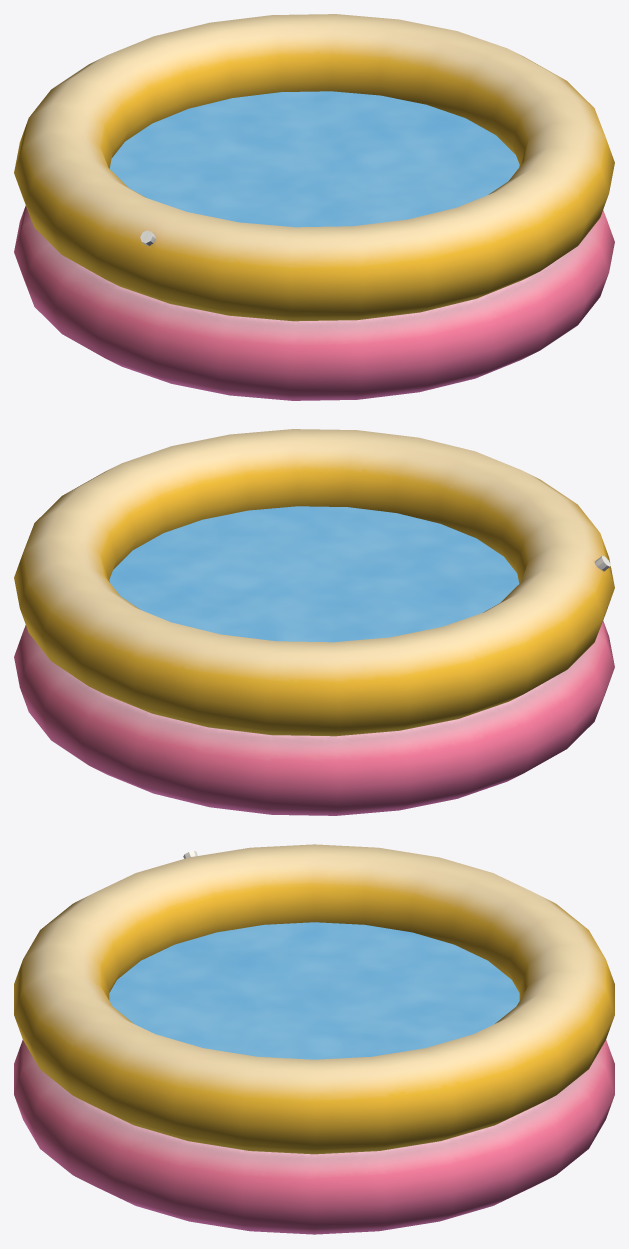
The model's file is KiddiePool.glb.
3 renders of one model, top to bottom at view 1: azimuth 30°, elevation 25°; view 2: azimuth 150°, elevation 25°; view 3: azimuth 270°, elevation 25°, orthographic.
Visible parts, largest first — view 1: KiddiePool, KiddiePool_Water; view 2: KiddiePool, KiddiePool_Water; view 3: KiddiePool, KiddiePool_Water.
Boxes of the visible parts, x1,y1,x2,y2 form: KiddiePool: (14,14,614,400); KiddiePool_Water: (109,91,519,227); KiddiePool: (14,429,614,815); KiddiePool_Water: (109,506,519,642); KiddiePool: (14,844,614,1234); KiddiePool_Water: (109,922,519,1059).
Bounding box in the file's own units: 6 × 1.8 × 5.96.
1 material, 1 textured.
